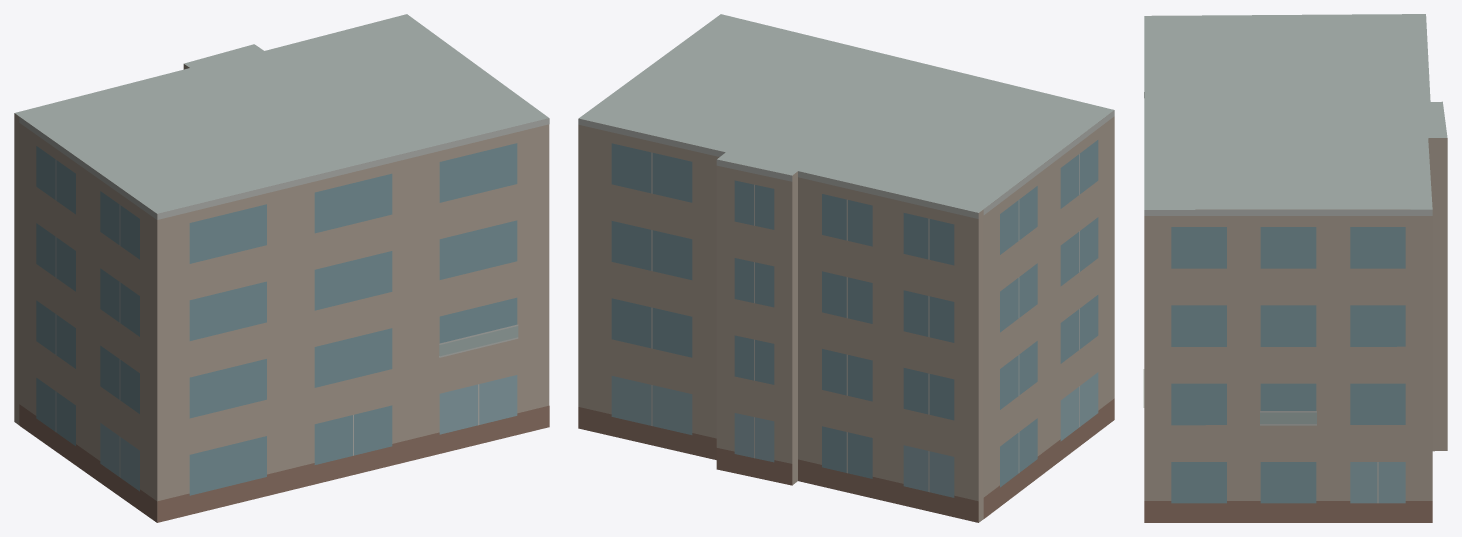
File: survey-upis-32992486.glb
3 views of the same model, side by side, from view 1: azimuth 30°, elevation 25°; view 2: azimuth 150°, elevation 25°; view 3: azimuth 270°, elevation 25° (orthographic).
Visible parts, largest first — view 1: survey-upis-32992486.tmp; view 2: survey-upis-32992486.tmp; view 3: survey-upis-32992486.tmp.
Boxes of the visible parts, left/top/right/bottom form: survey-upis-32992486.tmp: left=14, top=14, right=549, bottom=522; survey-upis-32992486.tmp: left=578, top=14, right=1114, bottom=522; survey-upis-32992486.tmp: left=1143, top=14, right=1447, bottom=522.
Size of the model in its own units: 16.4 by 12.2 by 10.75.
